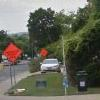Tree: (28, 7, 100, 59)
